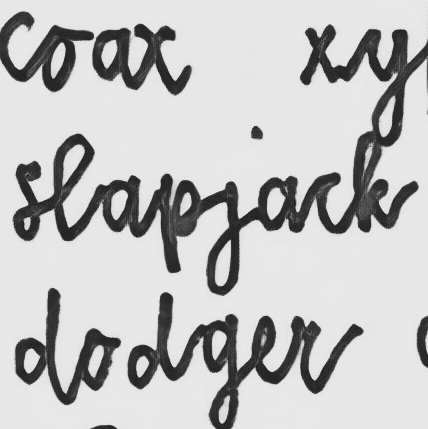a: (255, 171, 303, 236), (98, 173, 143, 239)
c: (309, 168, 343, 236)
j: (204, 177, 244, 299)
k: (349, 130, 395, 236)
l: (50, 130, 96, 244)
p: (156, 171, 203, 275)
s: (9, 159, 46, 242)
